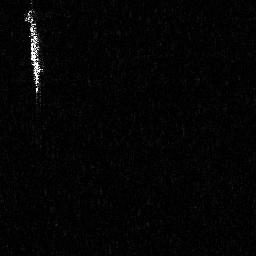ship: (23, 9, 46, 108)
